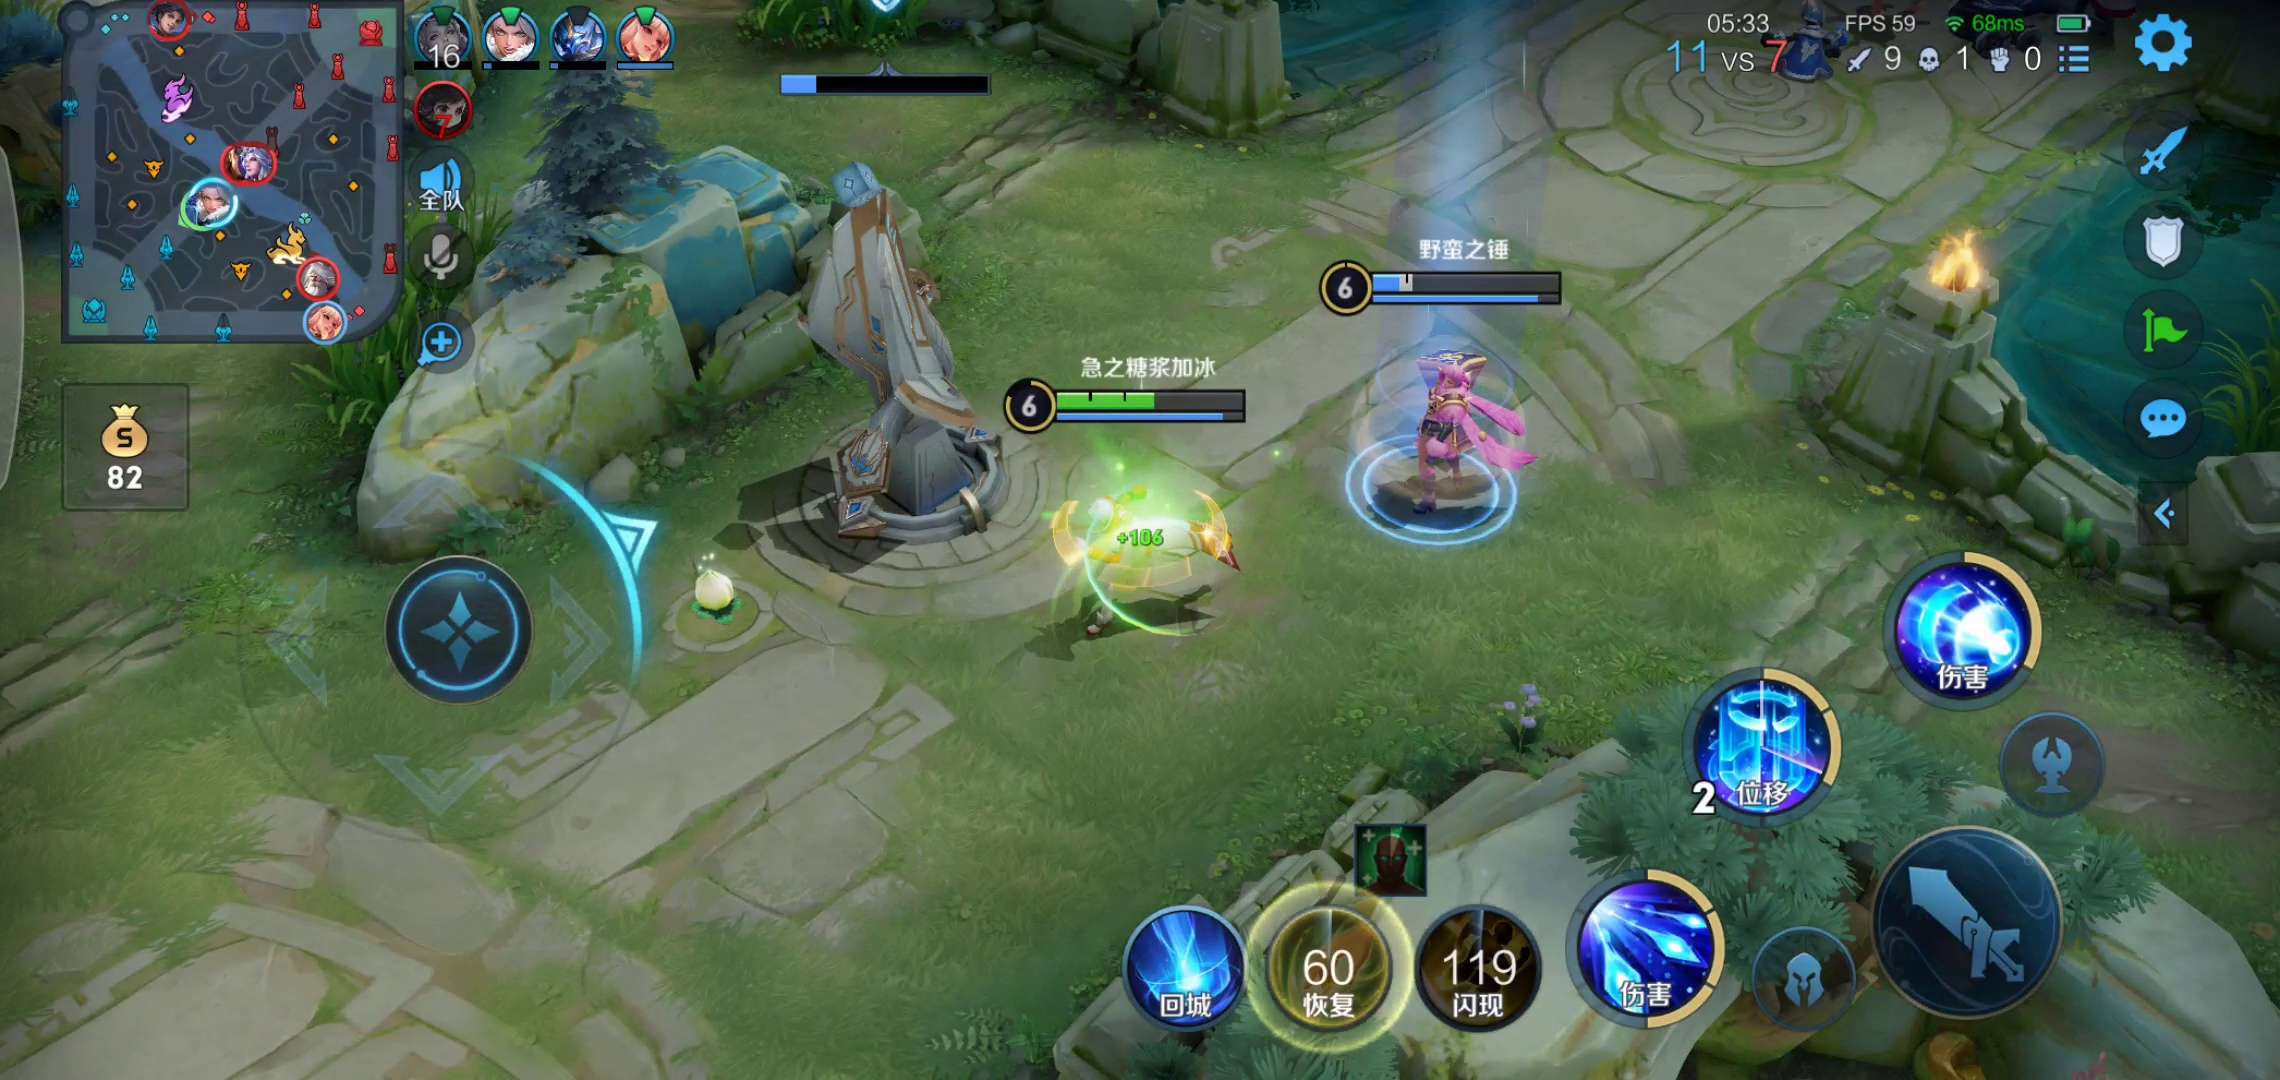grass: (308, 291, 425, 443)
hero: (1018, 470, 1253, 640), (1352, 333, 1544, 532)
tower: (771, 156, 1019, 564)
